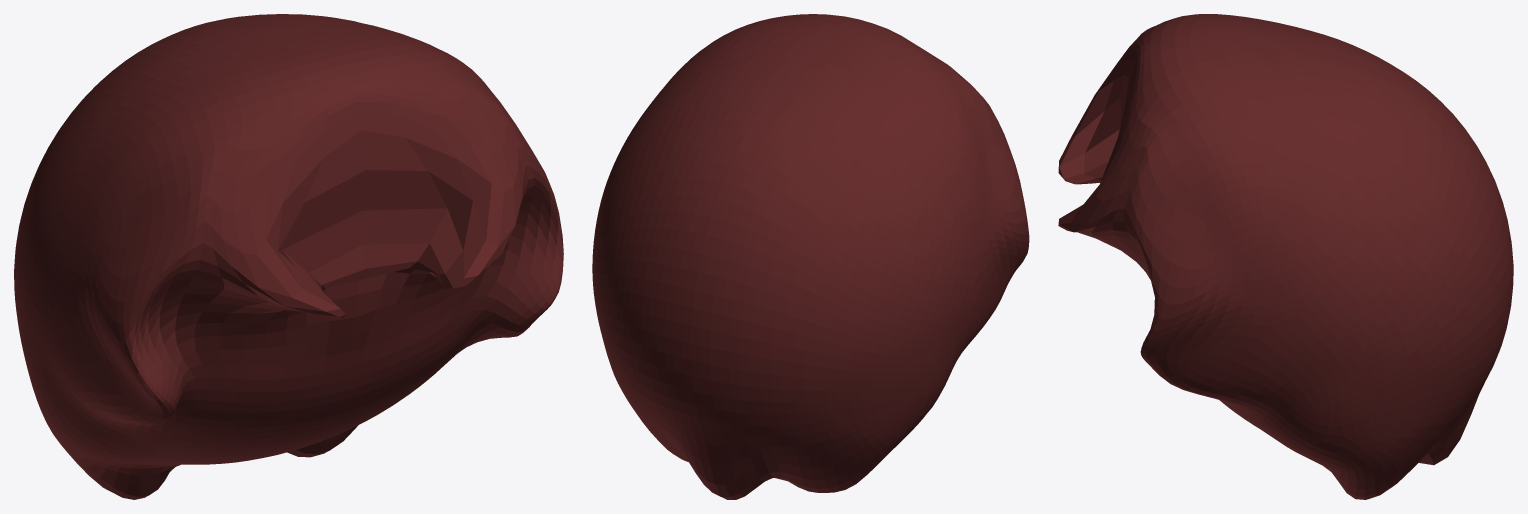
The model's file is ButterflyHairCut.fbx.
3 renders of one model, left to right at view 1: azimuth 30°, elevation 25°; view 2: azimuth 150°, elevation 25°; view 3: azimuth 270°, elevation 25°, orthographic. The views are drawn at different scales.
Visible parts, largest first — view 1: RonRon_Hair:Group63976; view 2: RonRon_Hair:Group63976; view 3: RonRon_Hair:Group63976.
Boxes of the visible parts, box(x1,y1,x2,y2) form: RonRon_Hair:Group63976: box(14, 14, 563, 499); RonRon_Hair:Group63976: box(592, 14, 1029, 499); RonRon_Hair:Group63976: box(1058, 14, 1513, 499).
Bounding box in the file's own units: 1.93 × 2.05 × 2.
